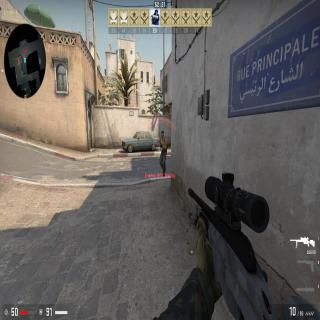T-Body: (158, 130, 168, 172)
T-Head: (161, 131, 164, 137)
